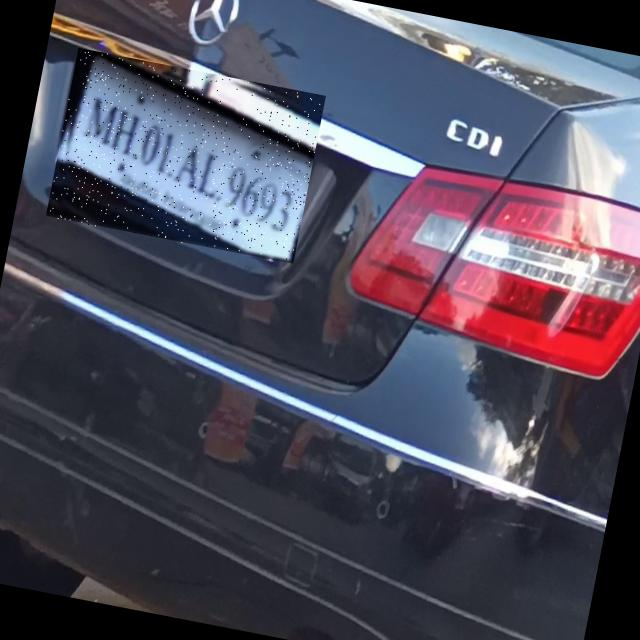Plate: (47, 50, 327, 267)
